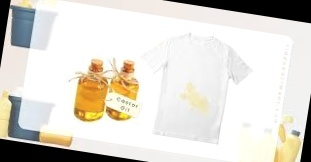oil: (177, 83, 212, 116)
